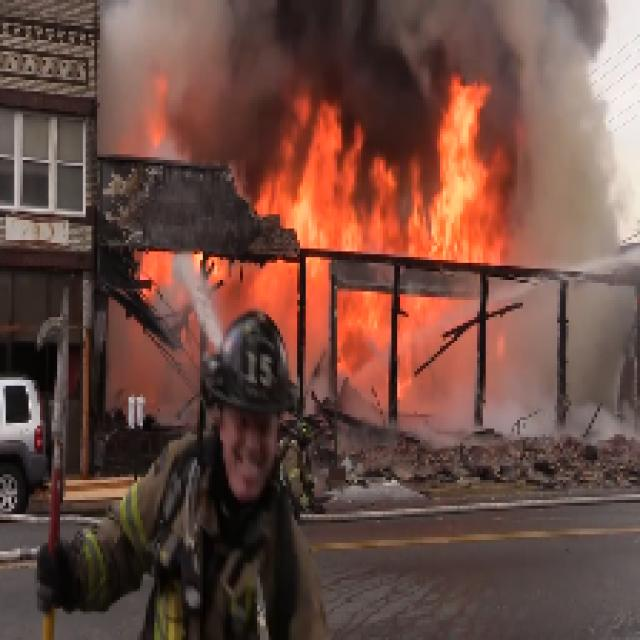fire: (269, 125, 505, 268)
smoke: (527, 9, 608, 256), (264, 5, 522, 79)
